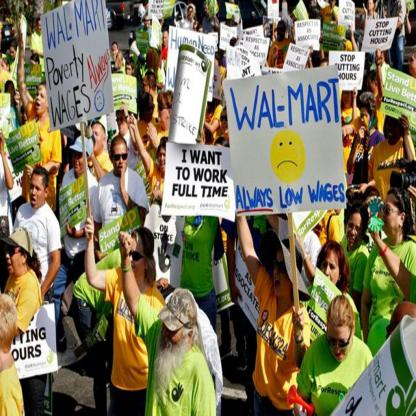face: (329, 330, 354, 363), (273, 255, 292, 297), (383, 197, 402, 233), (322, 256, 341, 291), (163, 316, 183, 345), (129, 240, 145, 274), (7, 245, 24, 276), (30, 178, 46, 210), (348, 215, 364, 246), (388, 111, 402, 144), (113, 147, 128, 176), (364, 199, 380, 224), (74, 147, 88, 172), (36, 86, 48, 115), (92, 125, 104, 152), (117, 113, 129, 133), (159, 150, 169, 173), (158, 102, 169, 122), (362, 108, 371, 131), (146, 102, 155, 120), (367, 77, 376, 92), (344, 89, 351, 106), (8, 85, 15, 101), (144, 78, 151, 94), (223, 112, 229, 127), (378, 56, 385, 68), (11, 47, 17, 60), (127, 66, 133, 79), (31, 60, 36, 75), (113, 47, 119, 59), (163, 35, 169, 46), (3, 62, 8, 75), (39, 22, 44, 34), (376, 53, 381, 64), (326, 10, 331, 21), (146, 18, 152, 27), (368, 1, 374, 10), (205, 6, 210, 16), (189, 9, 193, 19), (331, 1, 336, 8)
